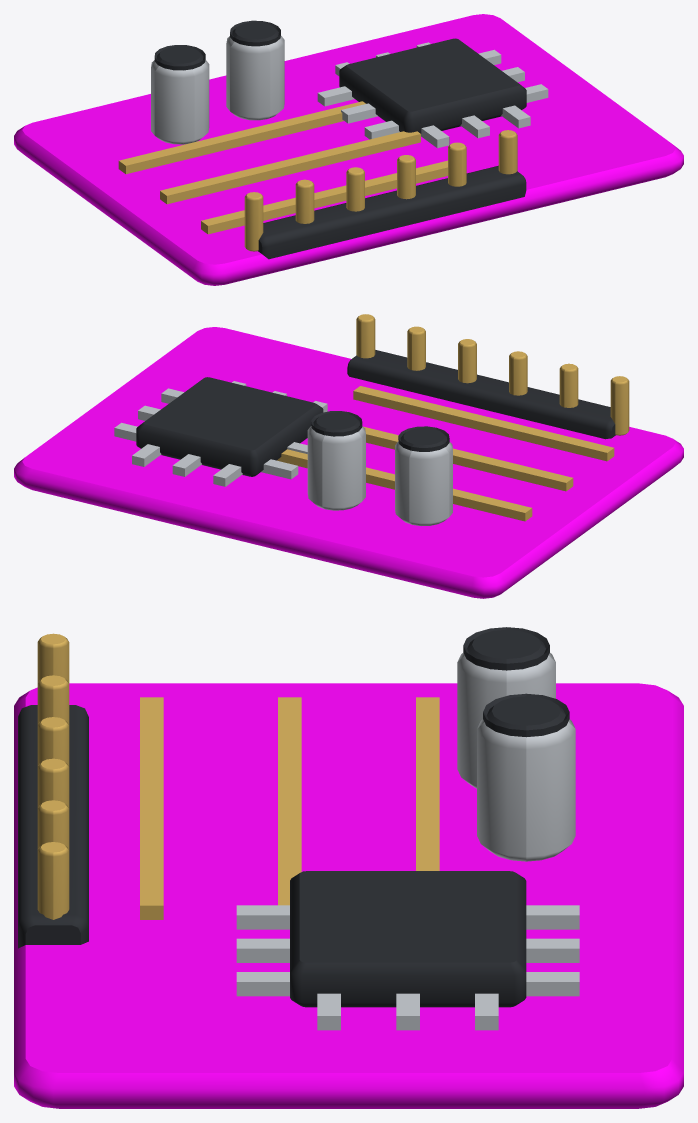
Rendered from objet_kit_circuit.glb.
3 views of the same model, one above another, from view 1: azimuth 30°, elevation 25°; view 2: azimuth 150°, elevation 25°; view 3: azimuth 270°, elevation 25° (orthographic). The views are drawn at different scales.
Visible parts, largest first — view 1: circuit_teinte.004, circuit_composant.004, circuit_piste_or.004, circuit_composant_clair.004; view 2: circuit_teinte.004, circuit_composant.004, circuit_piste_or.004, circuit_composant_clair.004; view 3: circuit_teinte.004, circuit_composant.004, circuit_composant_clair.004, circuit_piste_or.004.
Boxes of the visible parts, x1,y1,x2,y2 form: circuit_teinte.004: (14, 14, 683, 285); circuit_composant.004: (154, 20, 526, 259); circuit_piste_or.004: (118, 101, 517, 251); circuit_composant_clair.004: (151, 36, 548, 148); circuit_teinte.004: (14, 327, 683, 598); circuit_composant.004: (136, 350, 615, 476); circuit_piste_or.004: (277, 314, 629, 521); circuit_composant_clair.004: (114, 381, 452, 525); circuit_teinte.004: (14, 683, 683, 1108); circuit_composant.004: (18, 627, 569, 1007); circuit_composant_clair.004: (236, 652, 579, 1030); circuit_piste_or.004: (37, 633, 439, 919).
Size of the model in its own units: 0.24 by 0.0475 by 0.17.
